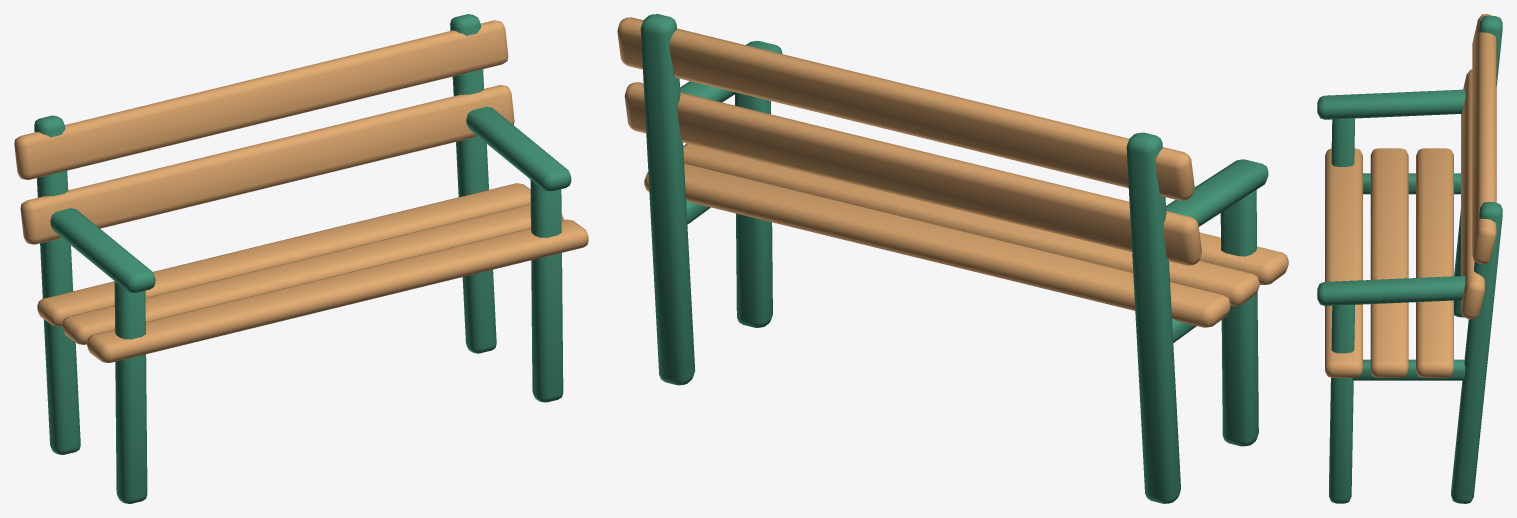
File: prop_bench.glb
The picture shows the model from 3 angles, left to right: view 1: azimuth 30°, elevation 25°; view 2: azimuth 150°, elevation 25°; view 3: azimuth 270°, elevation 25°; orthographic projection. The views are drawn at different scales.
Visible parts, largest first — view 1: prop_bench; view 2: prop_bench; view 3: prop_bench.
Boxes of the visible parts, x1=… form: prop_bench: x1=14, y1=14, x2=588, y2=503; prop_bench: x1=617, y1=14, x2=1288, y2=503; prop_bench: x1=1317, y1=14, x2=1502, y2=503.
Bounding box in the file's own units: 1.36 × 0.8619 × 0.4883.
